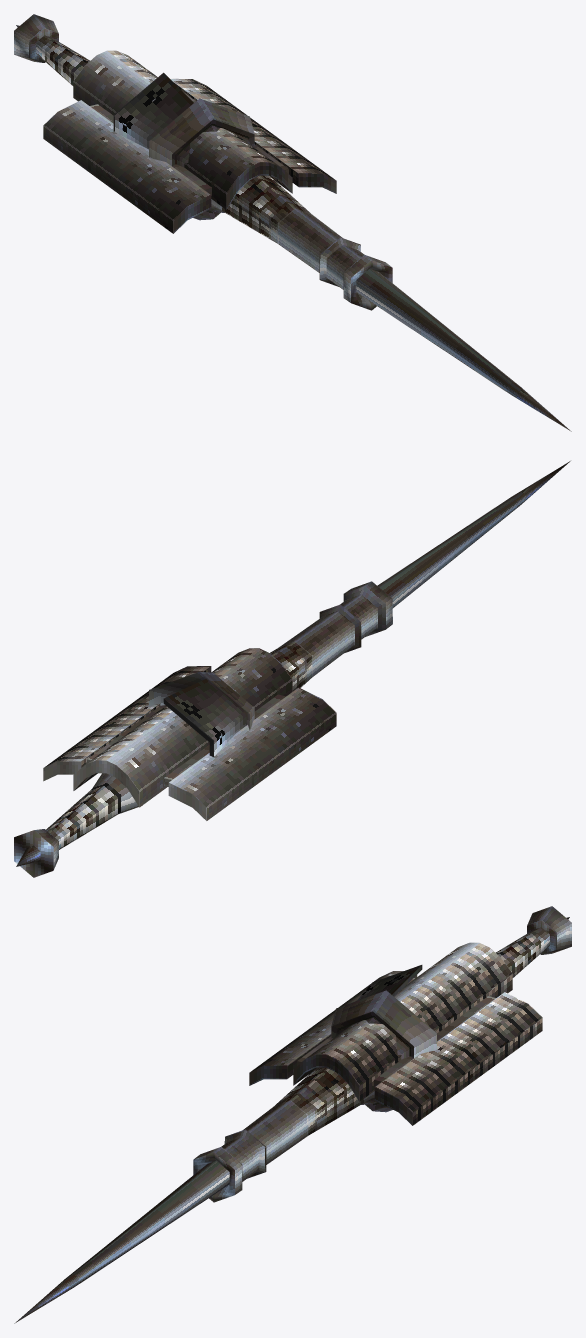
3 renders of one model, top to bottom at view 1: azimuth 30°, elevation 25°; view 2: azimuth 150°, elevation 25°; view 3: azimuth 330°, elevation 25°, orthographic.
Parts seen in each view (by area): view 1: weapon/we050.pac; view 2: weapon/we050.pac; view 3: weapon/we050.pac.
Part boxes in pixels (x1,y1,x2,y2): weapon/we050.pac: (14,14,571,431); weapon/we050.pac: (14,461,570,877); weapon/we050.pac: (14,906,571,1323).
Size of the model in its own units: 77.15 by 55.01 by 455.
Materials: 1 (1 with a texture image).
